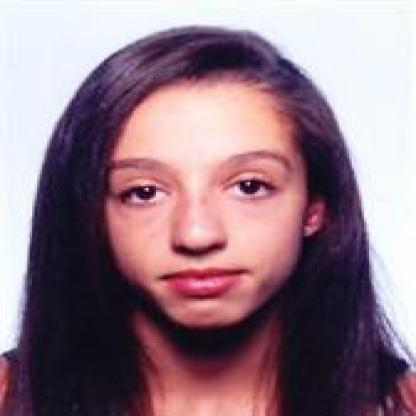long-hair: (5, 365, 404, 408)
